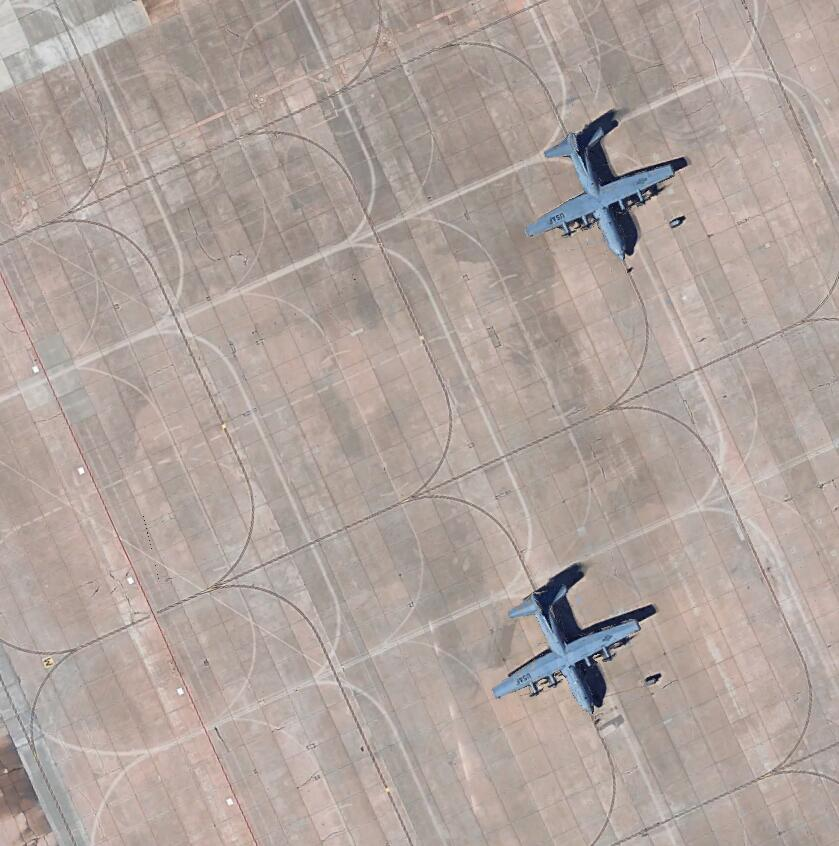A2: (486, 558, 644, 719), (529, 106, 682, 265)
